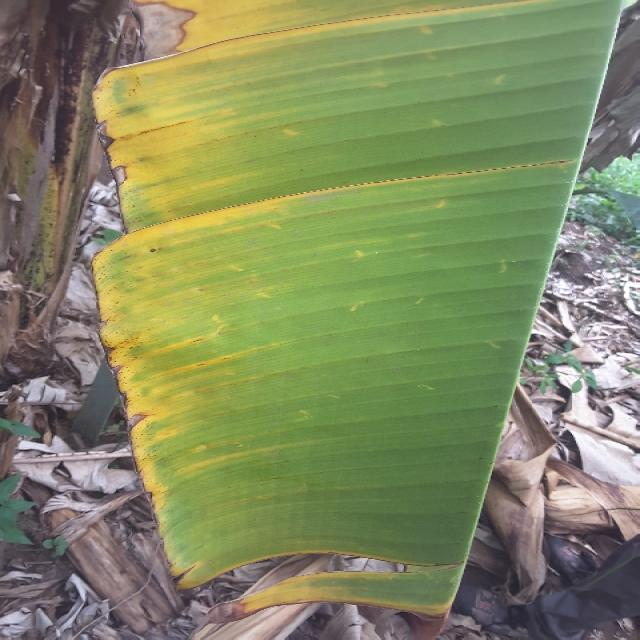Cordana: (89, 0, 492, 626)
